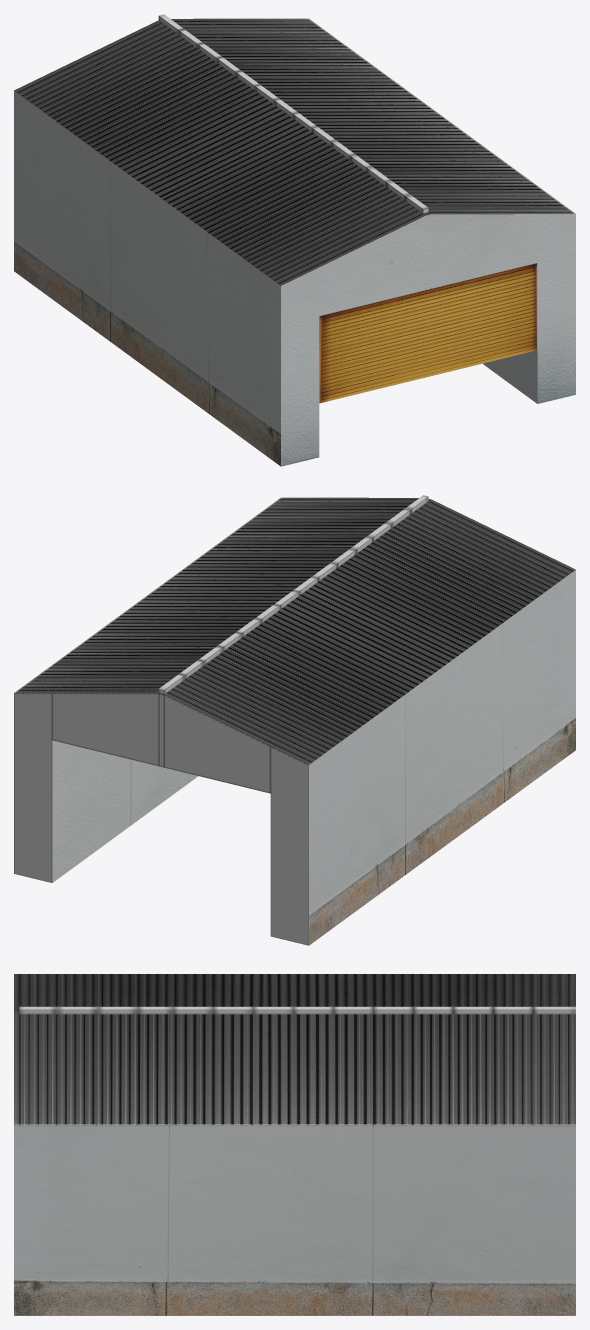
The model's file is WareHouse.glb.
The picture shows the model from 3 angles, top to bottom: view 1: azimuth 30°, elevation 25°; view 2: azimuth 150°, elevation 25°; view 3: azimuth 270°, elevation 25°; orthographic projection. The views are drawn at different scales.
Visible parts, largest first — view 1: Cube.043; view 2: Cube.043; view 3: Cube.043.
Part boxes in pixels (box(x1,y1,x2,y2)): Cube.043: box(14, 14, 575, 466); Cube.043: box(14, 495, 575, 945); Cube.043: box(14, 974, 575, 1315).
Size of the model in its own units: 16.16 by 11.54 by 25.34.
1 material, 1 textured.
